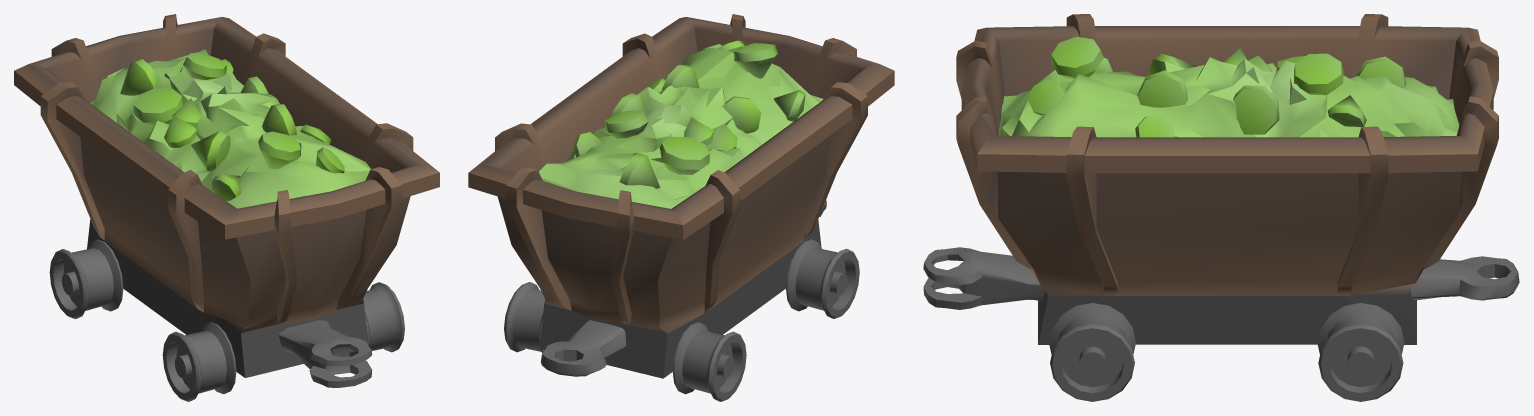
File: Ash_Mine_Gem_Cart.glb
3 views of the same model, side by side, from view 1: azimuth 30°, elevation 25°; view 2: azimuth 150°, elevation 25°; view 3: azimuth 270°, elevation 25° (orthographic). The views are drawn at different scales.
Parts seen in each view (by area): view 1: Object_3; view 2: Object_3; view 3: Object_3.
Part boxes in pixels (x1,y1,x2,y2): Object_3: (14,14,439,401); Object_3: (468,14,894,401); Object_3: (923,14,1519,401).
Bounding box in the file's own units: 0.9509 × 0.9391 × 1.74.
